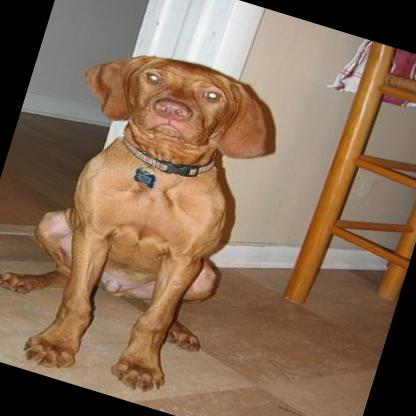vizsla: (0, 18, 295, 412)
